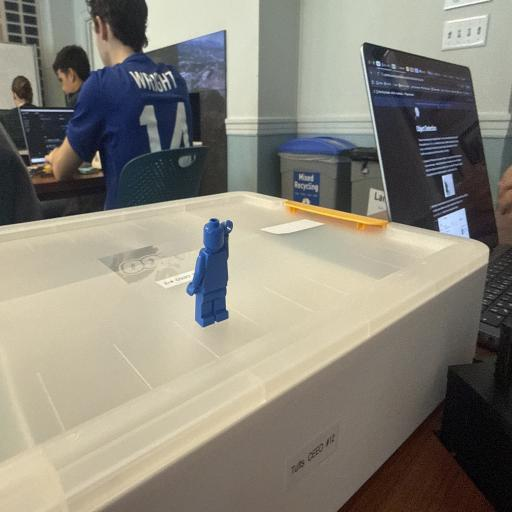Minifig: (187, 218, 233, 326)
